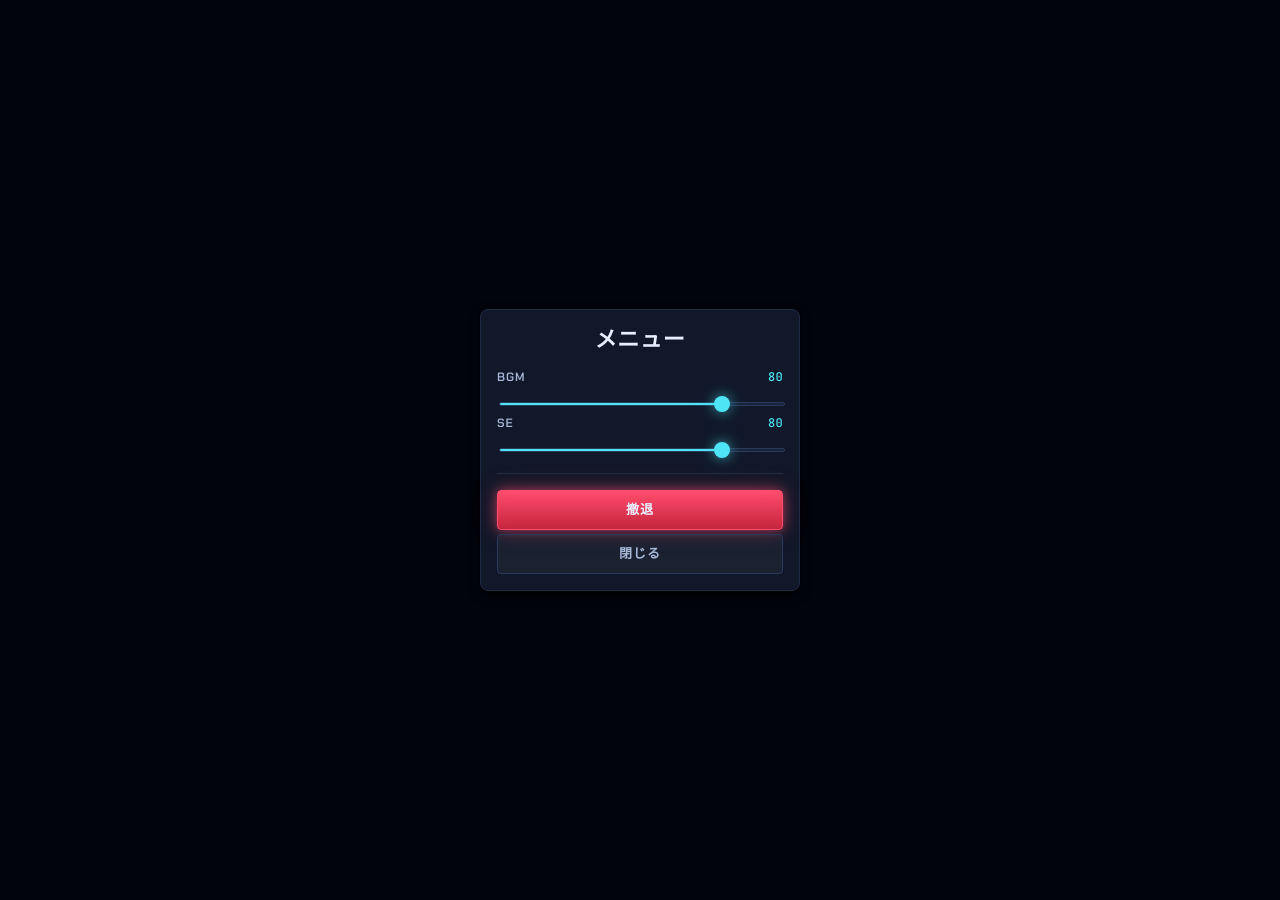
Test case: BattleMenuOverlay › 撤退ボタンをクリックすると確認ダイアログが表示される
Click the button "撤退" at (640, 510), box x1=497 y1=490 x2=783 y2=530
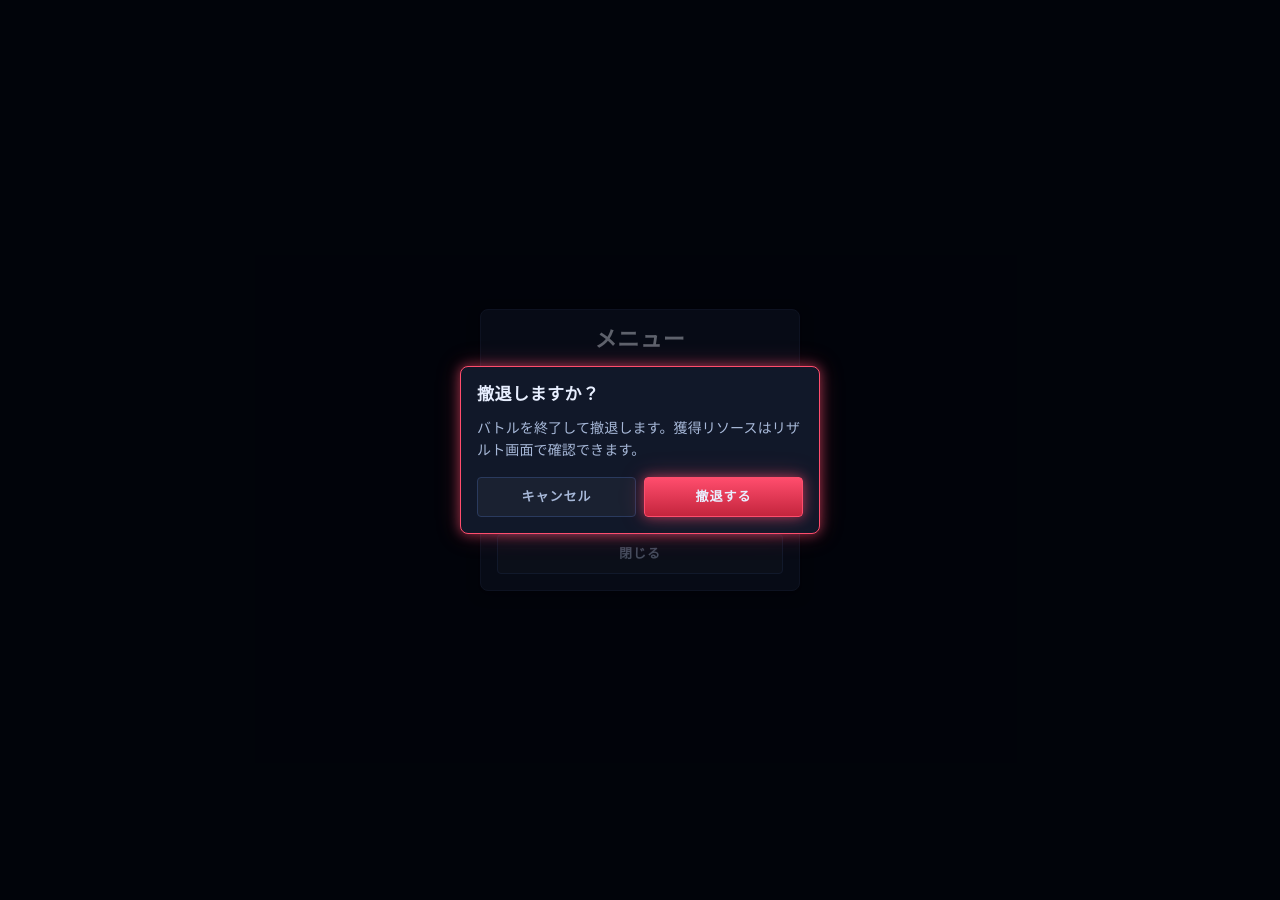
Expected: the heading "撤退しますか？" is shown, x1=477 y1=383 x2=600 y2=405
